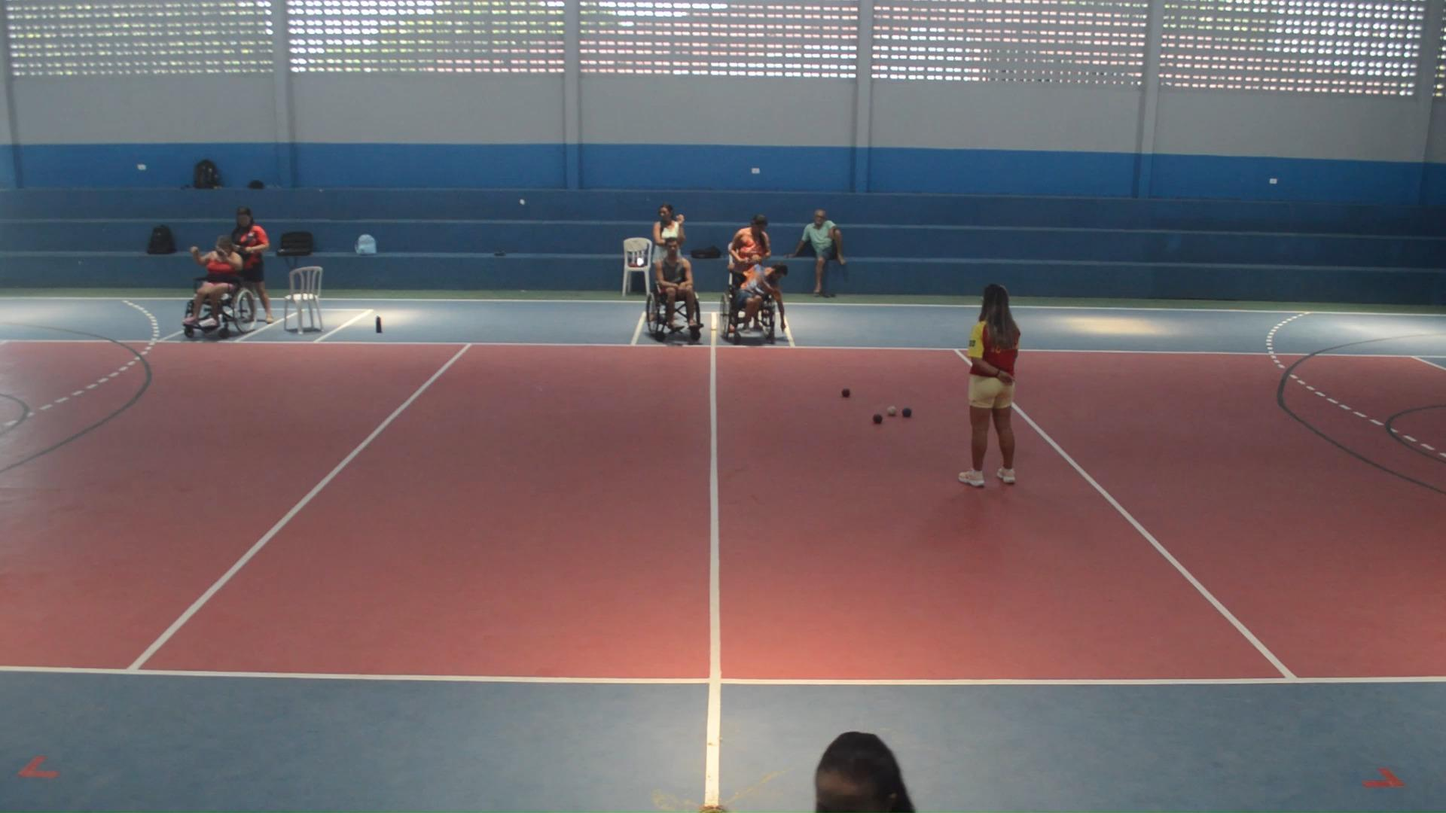blue_ball: (903, 409, 911, 417)
red_ball: (873, 414, 882, 423), (842, 389, 850, 397)
white_ball: (888, 406, 897, 414)
